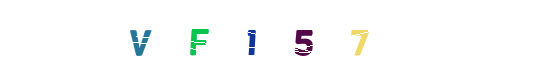1: (228, 0, 308, 80)
5: (263, 0, 343, 80)
7: (297, 0, 377, 80)
F: (157, 0, 237, 80)
V: (142, 0, 222, 80)
